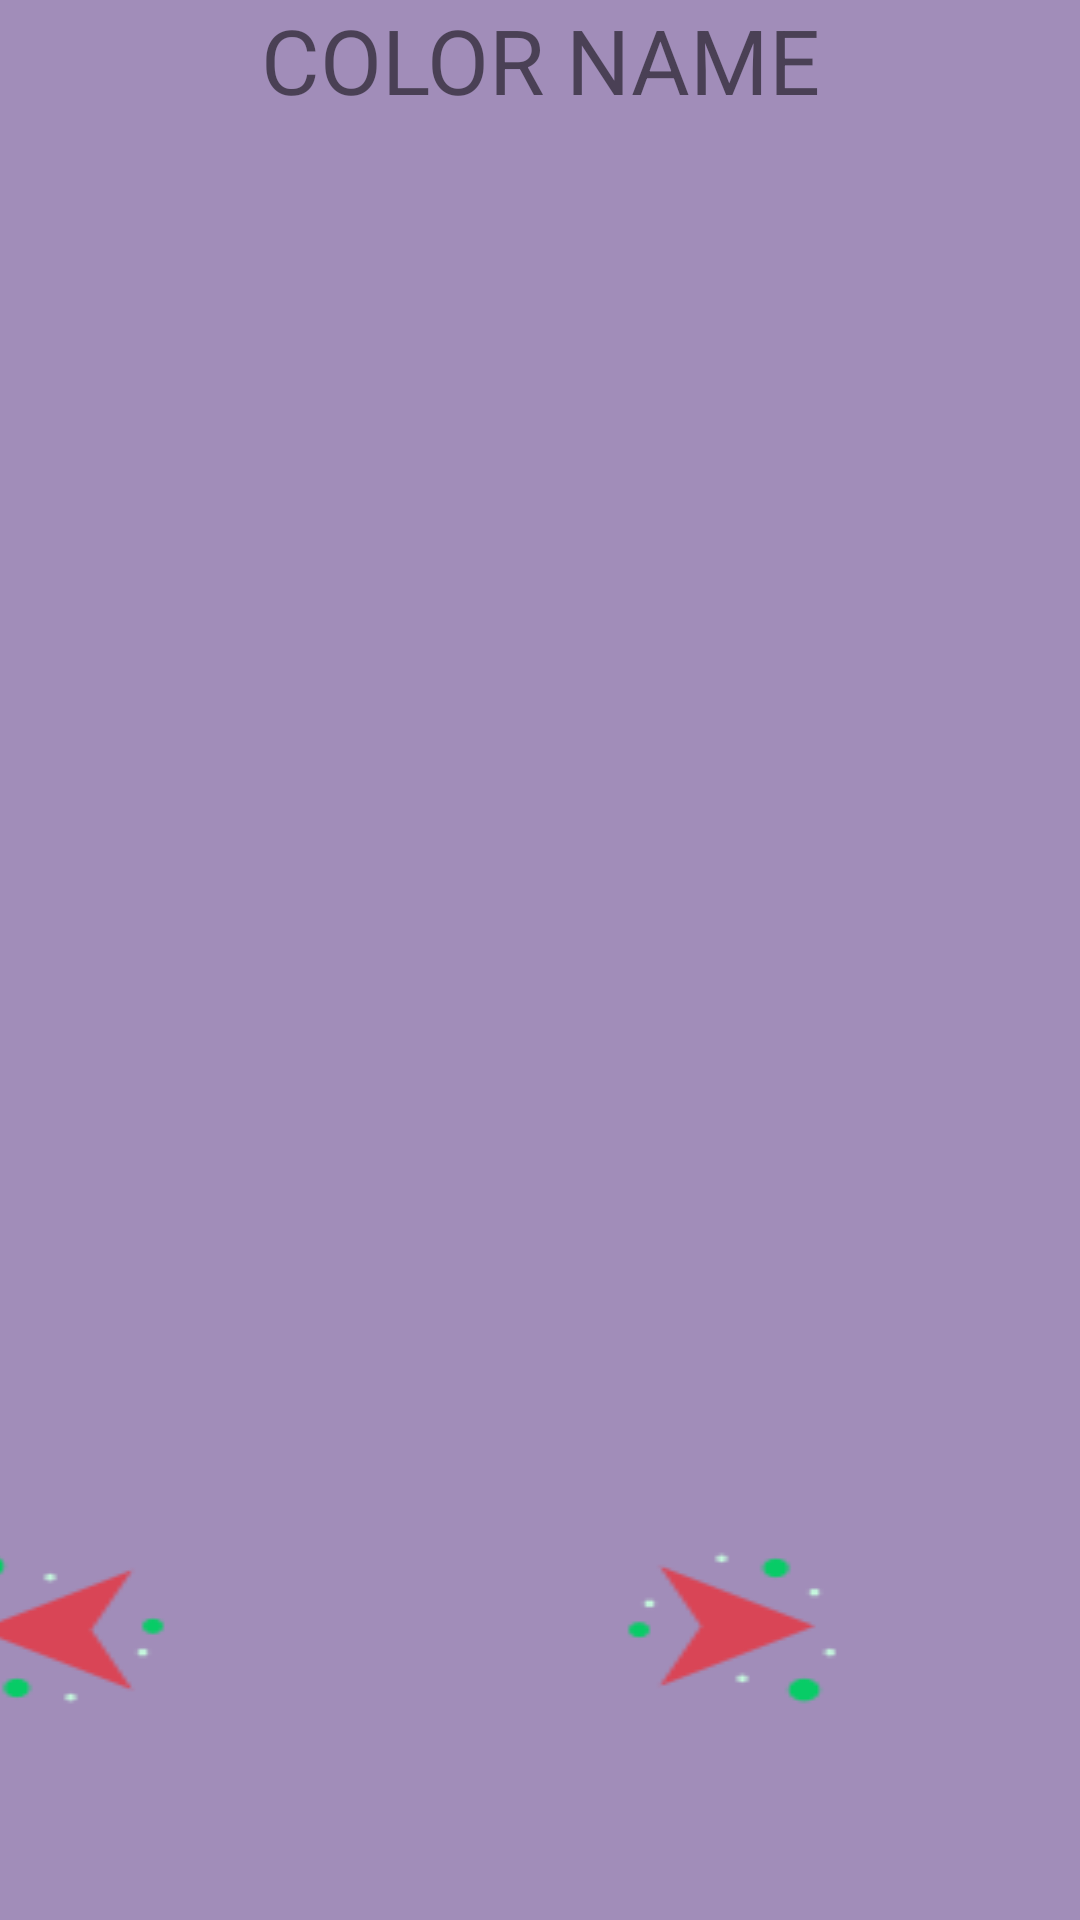

Locate icon controls on the screen. Image size 1080x1920, boxes as (x1, y1, x2, y2).
rightarrow: (628, 1554, 836, 1703)
